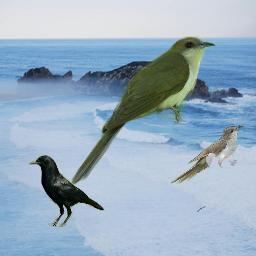Crow: (28, 155, 105, 227)
Cuckoo: (71, 36, 216, 187), (170, 125, 244, 184)
